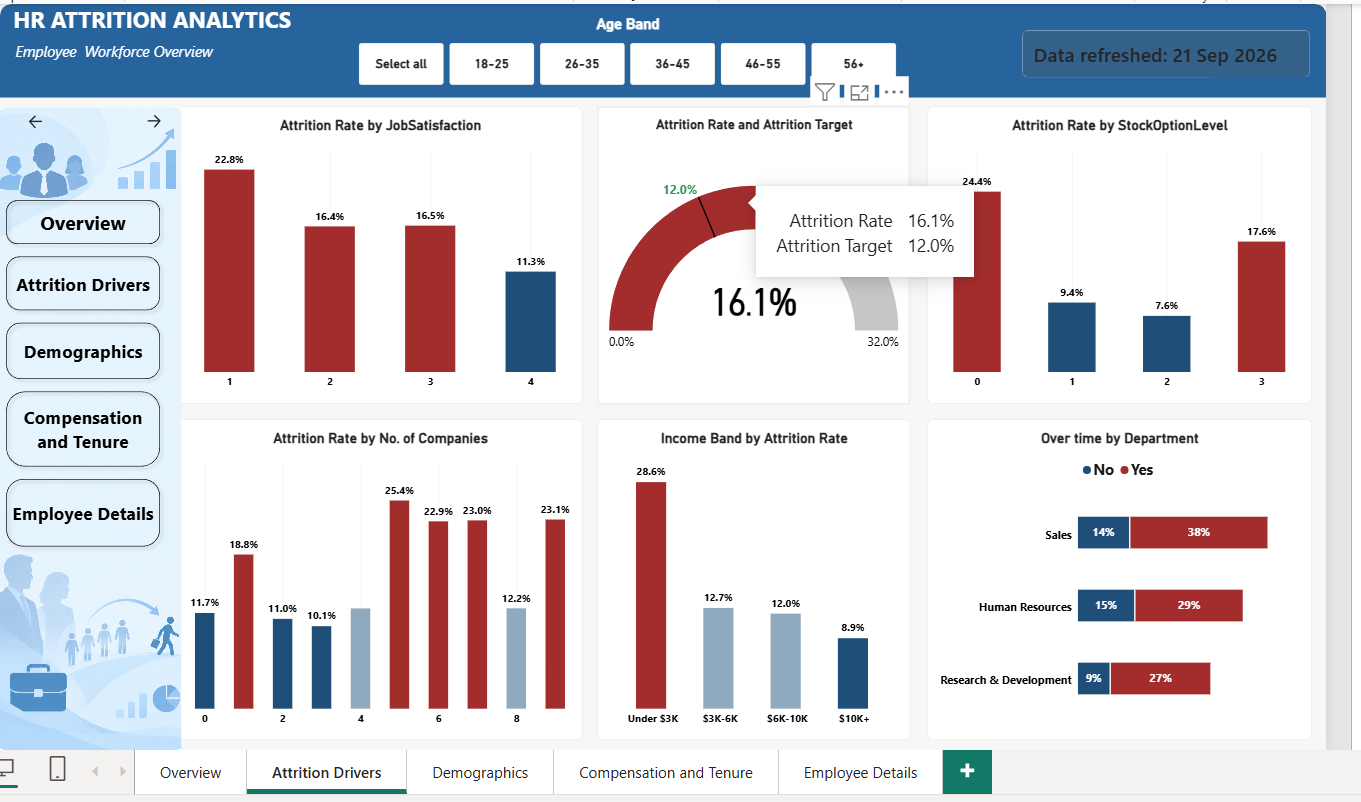

The page's visual inventory and layout, read from the dashboard file:
{"tool":"powerbi","page":{"name":"Attrition Drivers","canvas":[1920,1080],"ordinal":1},"visuals":[{"type":"shape","box":[0,0,1920.4,135.8],"z":0},{"type":"cardVisual","fields":{"Data":["HR_Analytics_Cleaned.Last Refreshed"]},"box":[1481.1,37.1,416.7,68.1],"z":1000},{"type":"advancedSlicerVisual","fields":{"Values":["HR_Analytics_Cleaned.Age Band"]},"box":[519.8,16.5,779.7,101.1],"z":2000},{"type":"textbox","box":[2.1,0,605.1,135.8],"z":3000},{"type":"clusteredColumnChart","fields":{"Category":["HR_Analytics_Cleaned.JobSatisfaction"],"Y":["HR_Analytics_Cleaned.Attrition Rate"]},"box":[257.3,148.2,586.6,430.2],"z":4000},{"type":"gauge","fields":{"Y":["HR_Analytics_Cleaned.Attrition Rate"],"TargetValue":["HR_Analytics_Cleaned.Attrition Target"]},"box":[864.5,148.2,452.8,430.2],"z":5000},{"type":"clusteredColumnChart","title":"Attrition Rate by No. of Companies","fields":{"Category":["HR_Analytics_Cleaned.NumCompaniesWorked"],"Y":["HR_Analytics_Cleaned.Attrition Rate"]},"box":[257.3,601,586.6,465.2],"z":6000},{"type":"clusteredColumnChart","title":"Income Band by Attrition Rate","fields":{"Category":["HR_Analytics_Cleaned.ncome Band"],"Y":["HR_Analytics_Cleaned.Attrition Rate"]},"box":[864.5,601,452.8,465.2],"z":7000},{"type":"barChart","title":"Over time by Department","fields":{"Category":["HR_Analytics_Cleaned.Department"],"Y":["HR_Analytics_Cleaned.Attrition Rate"],"Series":["HR_Analytics_Cleaned.OverTime"]},"box":[1342,601,555.7,465.2],"z":8000},{"type":"clusteredColumnChart","fields":{"Category":["HR_Analytics_Cleaned.StockOptionLevel"],"Y":["HR_Analytics_Cleaned.Attrition Rate"]},"box":[1342,148.2,555.7,430.2],"z":9000},{"type":"actionButton","box":[0,148.4,95.9,61.5],"z":10000},{"type":"actionButton","box":[172.3,137.2,99.5,61.5],"z":11000},{"type":"image","box":[0,150.2,262.4,930.2],"z":12000},{"type":"shape","box":[0,275.1,240.7,81.4],"z":13000},{"type":"shape","box":[0,356.5,240.7,95.9],"z":14000},{"type":"shape","box":[0,452.4,240.7,99.5],"z":15000},{"type":"shape","box":[0,551.9,240.7,126.7],"z":16000},{"type":"shape","box":[0,678.6,240.7,115.8],"z":17000},{"type":"actionButton","box":[171.9,150.2,101.3,39.8],"z":18000},{"type":"actionButton","box":[1.8,150.2,100,40],"z":19000}]}

Visuals, with their boxes on the page's 1920x1080 design canvas (x1, y1, x2, y2). These are canvas units, not pixel positions in the 1361x802 screenshot, which may show the page scaled, cropped or inside an application window:
shape: pyautogui.locateOnScreen(0, 0, 1920, 136)
cardVisual - HR_Analytics_Cleaned.Last Refreshed: pyautogui.locateOnScreen(1481, 37, 1898, 105)
advancedSlicerVisual - HR_Analytics_Cleaned.Age Band: pyautogui.locateOnScreen(520, 16, 1300, 118)
textbox: pyautogui.locateOnScreen(2, 0, 607, 136)
clusteredColumnChart - HR_Analytics_Cleaned.JobSatisfaction x HR_Analytics_Cleaned.Attrition Rate: pyautogui.locateOnScreen(257, 148, 844, 578)
gauge - HR_Analytics_Cleaned.Attrition Rate x HR_Analytics_Cleaned.Attrition Target: pyautogui.locateOnScreen(864, 148, 1317, 578)
"Attrition Rate by No. of Companies" clusteredColumnChart: pyautogui.locateOnScreen(257, 601, 844, 1066)
"Income Band by Attrition Rate" clusteredColumnChart: pyautogui.locateOnScreen(864, 601, 1317, 1066)
"Over time by Department" barChart: pyautogui.locateOnScreen(1342, 601, 1898, 1066)
clusteredColumnChart - HR_Analytics_Cleaned.StockOptionLevel x HR_Analytics_Cleaned.Attrition Rate: pyautogui.locateOnScreen(1342, 148, 1898, 578)
actionButton: pyautogui.locateOnScreen(0, 148, 96, 210)
actionButton: pyautogui.locateOnScreen(172, 137, 272, 199)
image: pyautogui.locateOnScreen(0, 150, 262, 1080)
shape: pyautogui.locateOnScreen(0, 275, 241, 356)
shape: pyautogui.locateOnScreen(0, 356, 241, 452)
shape: pyautogui.locateOnScreen(0, 452, 241, 552)
shape: pyautogui.locateOnScreen(0, 552, 241, 679)
shape: pyautogui.locateOnScreen(0, 679, 241, 794)
actionButton: pyautogui.locateOnScreen(172, 150, 273, 190)
actionButton: pyautogui.locateOnScreen(2, 150, 102, 190)
